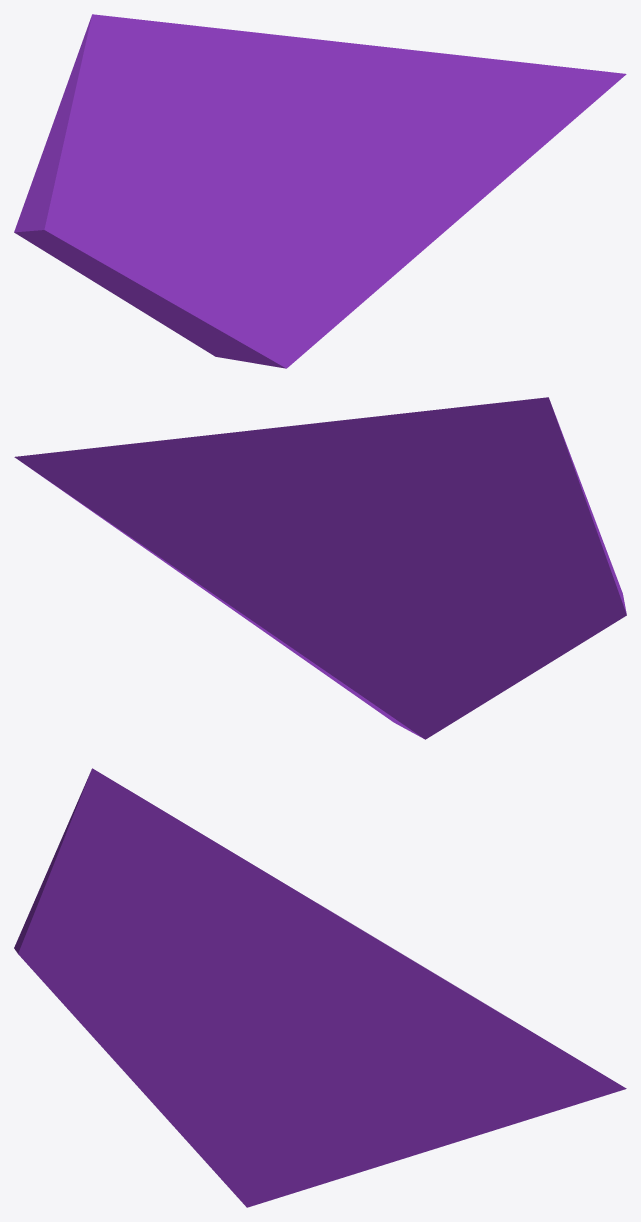
File: Glass_113_11_chunks.fbx
3 views of the same model, one above another, from view 1: azimuth 30°, elevation 25°; view 2: azimuth 150°, elevation 25°; view 3: azimuth 330°, elevation 25° (orthographic).
Visible parts, largest first — view 1: Glass_113_11_0; view 2: Glass_113_11_0; view 3: Glass_113_11_0.
Part boxes in pixels (x1,y1,x2,y2): Glass_113_11_0: (14,14,626,368); Glass_113_11_0: (14,397,626,739); Glass_113_11_0: (14,768,626,1207).
Size of the model in its own units: 410 by 245 by 23.
